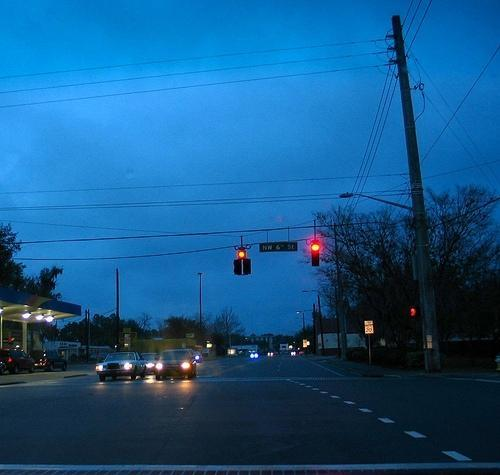car: (94, 352, 146, 382), (154, 348, 196, 380), (30, 349, 68, 372), (2, 348, 36, 372), (140, 353, 158, 372), (194, 351, 202, 362), (250, 353, 260, 359), (290, 350, 298, 356), (267, 352, 274, 356)
